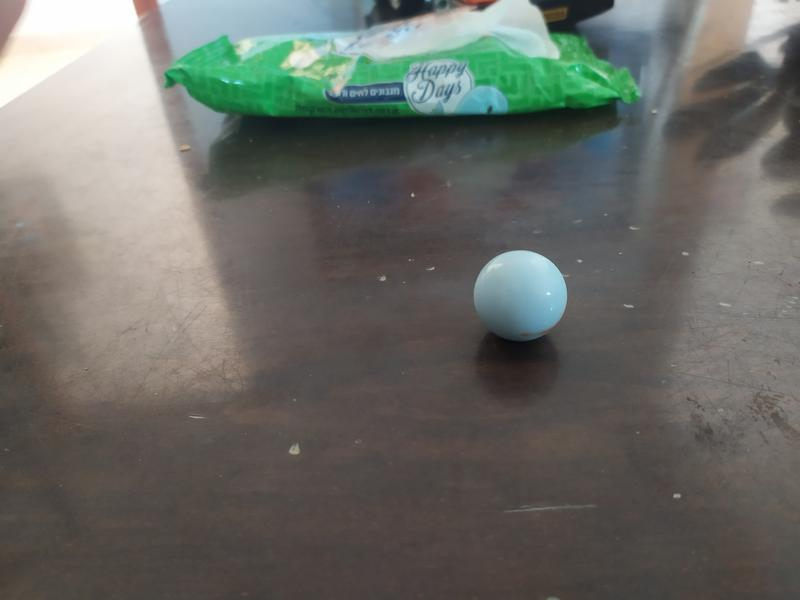Warning: (469, 246, 571, 345)
